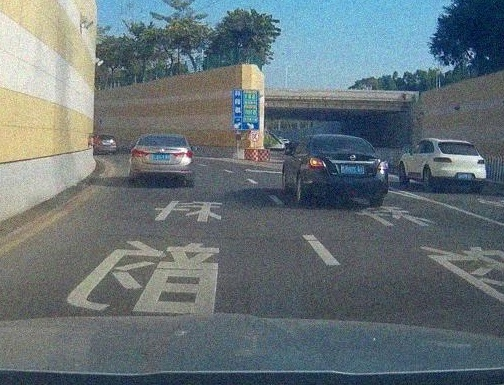L_light: (307, 157, 327, 169), (131, 146, 149, 157), (434, 157, 452, 162)
R_light: (174, 148, 194, 158), (375, 157, 388, 168), (477, 159, 486, 164)
T_light: (332, 137, 347, 140), (159, 136, 169, 139), (455, 144, 465, 147)
day-left: (305, 135, 388, 207)
day-no: (130, 133, 194, 185), (431, 138, 486, 193)
